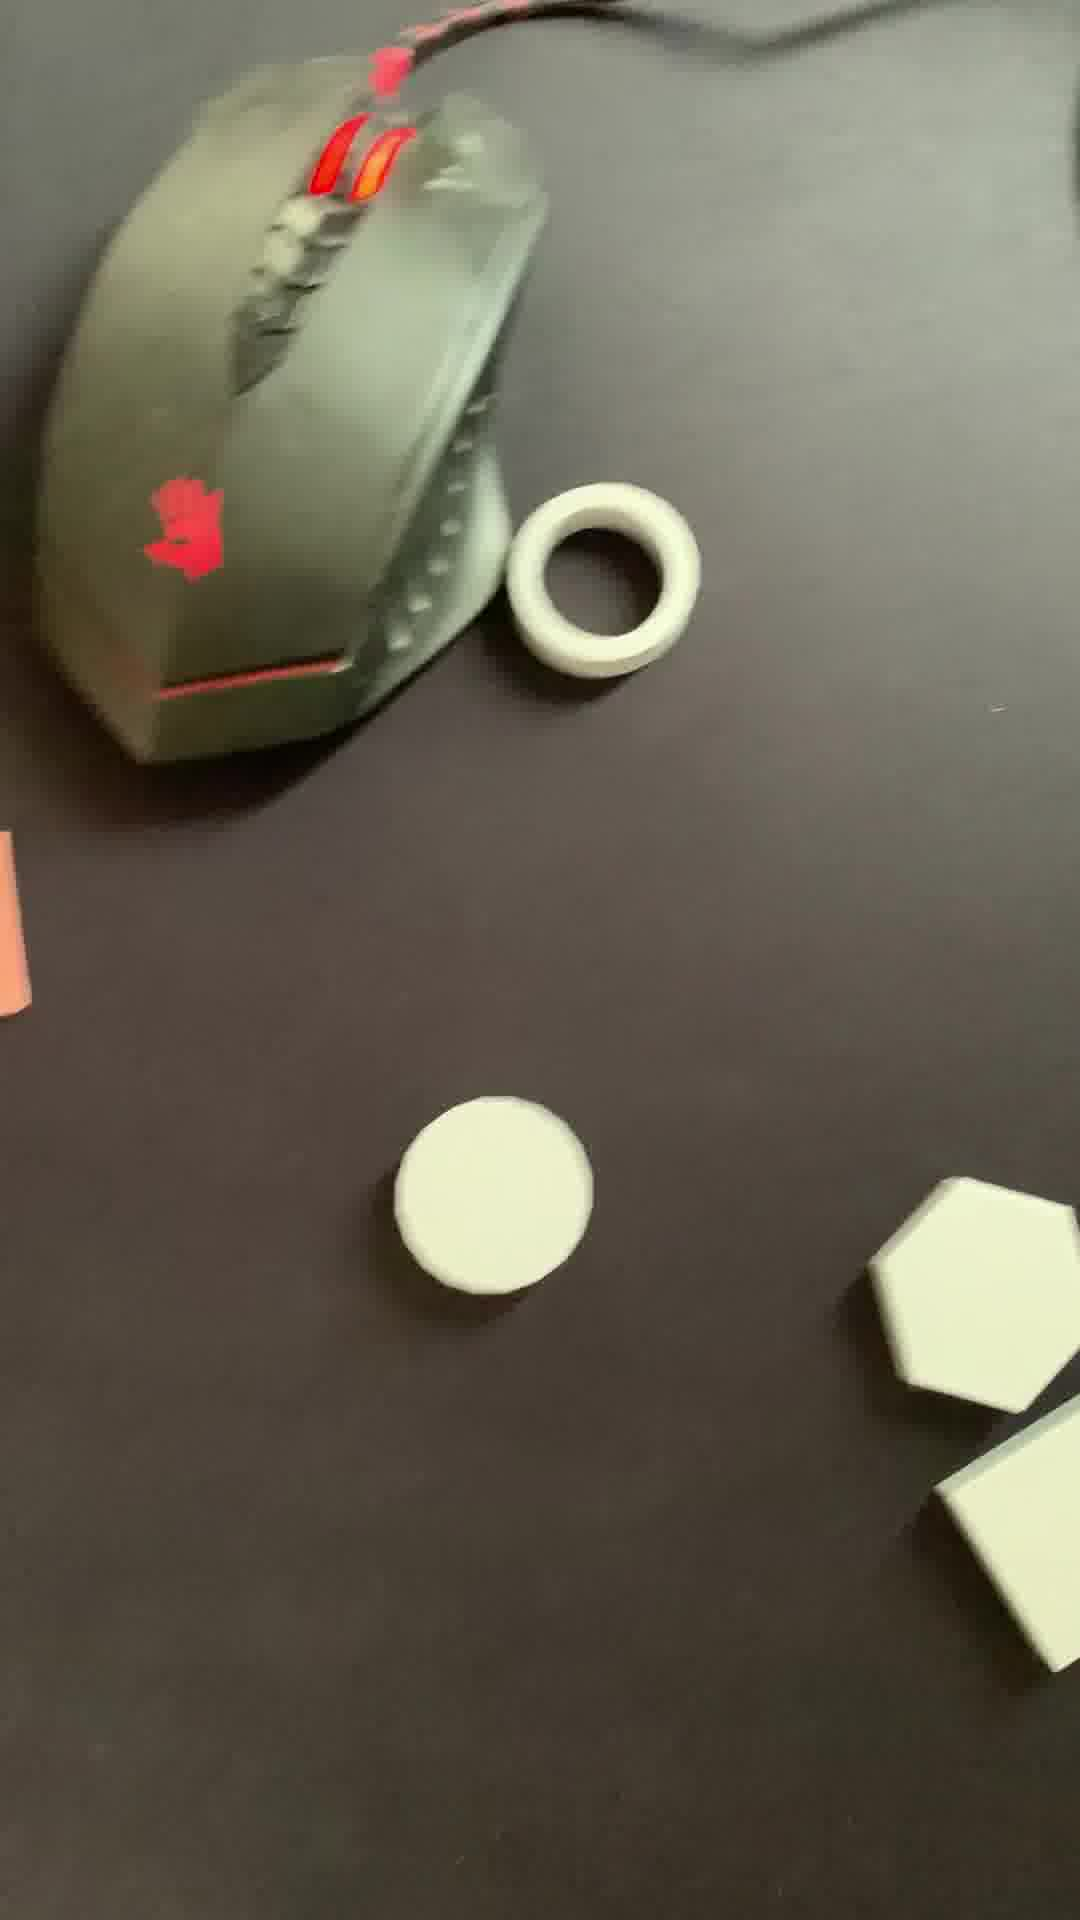Gray circle: (390, 1091, 597, 1299)
Gray hexagon: (862, 1158, 1077, 1423)
Gray ring: (520, 475, 702, 684)
Gray square: (913, 1404, 1080, 1702)
